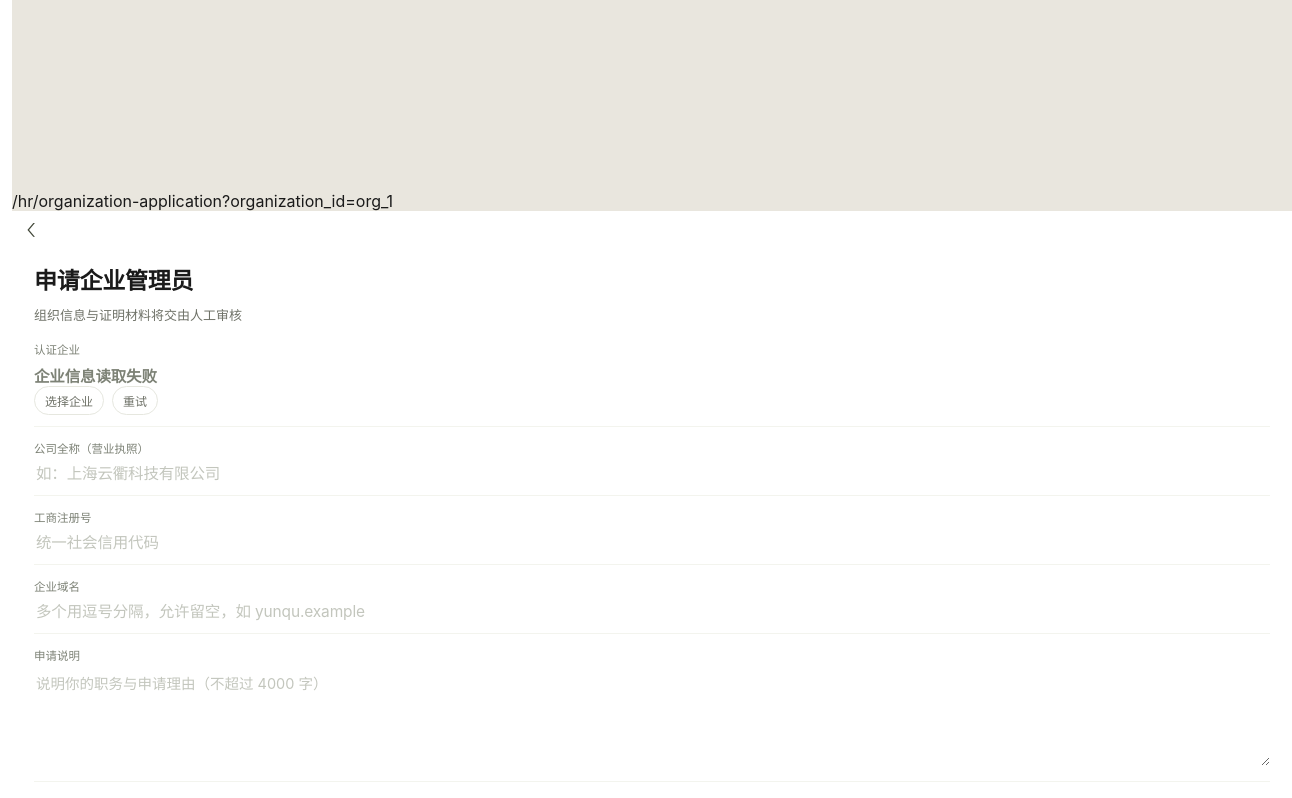
Test case: 企业组织申请 · 目标企业（合同 C） › 读取失败与目标不存在分开：给重试且重试重新读取
(page scrolled)
Expected: the text "企业信息读取失败" is shown, [34, 367, 157, 386]
Click the button "重试" at (135, 401), box [112, 386, 158, 415]
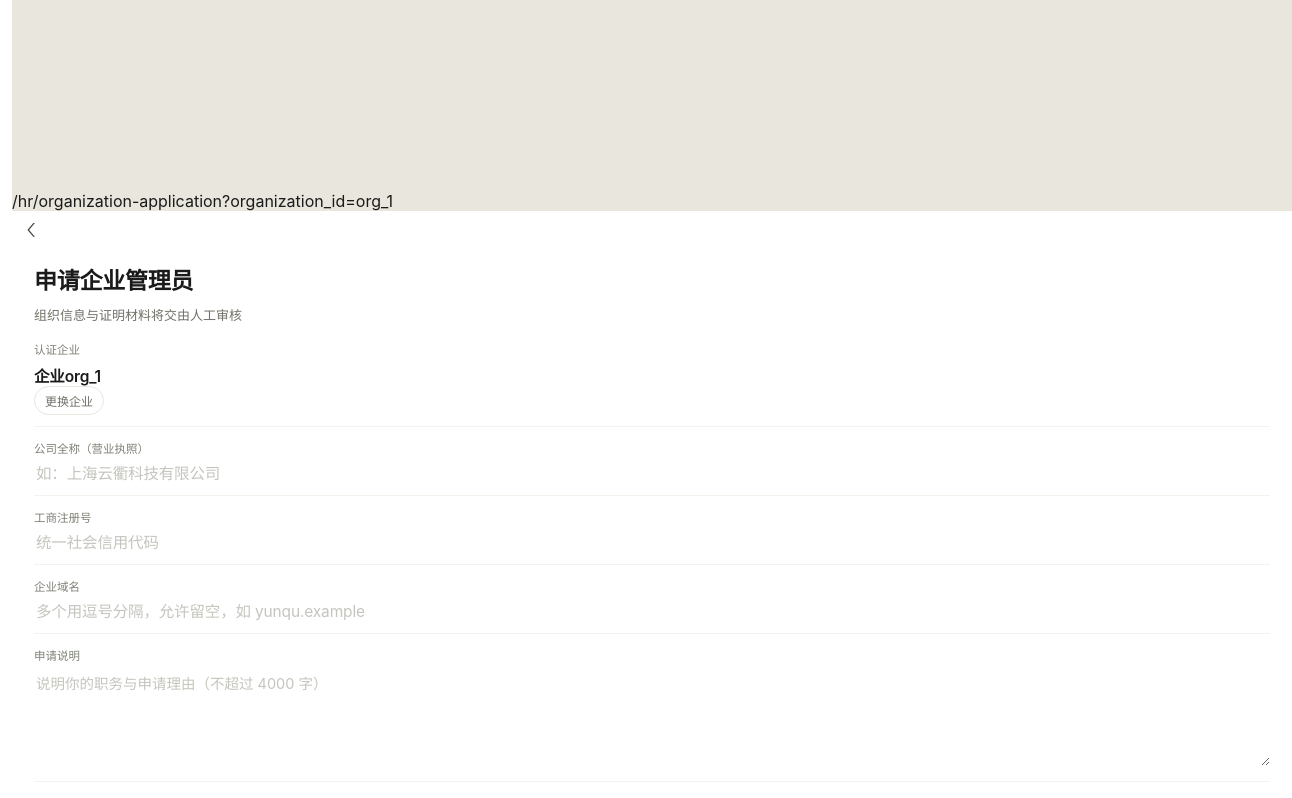
Expected: the text "企业org_1" is shown, [34, 367, 101, 386]
